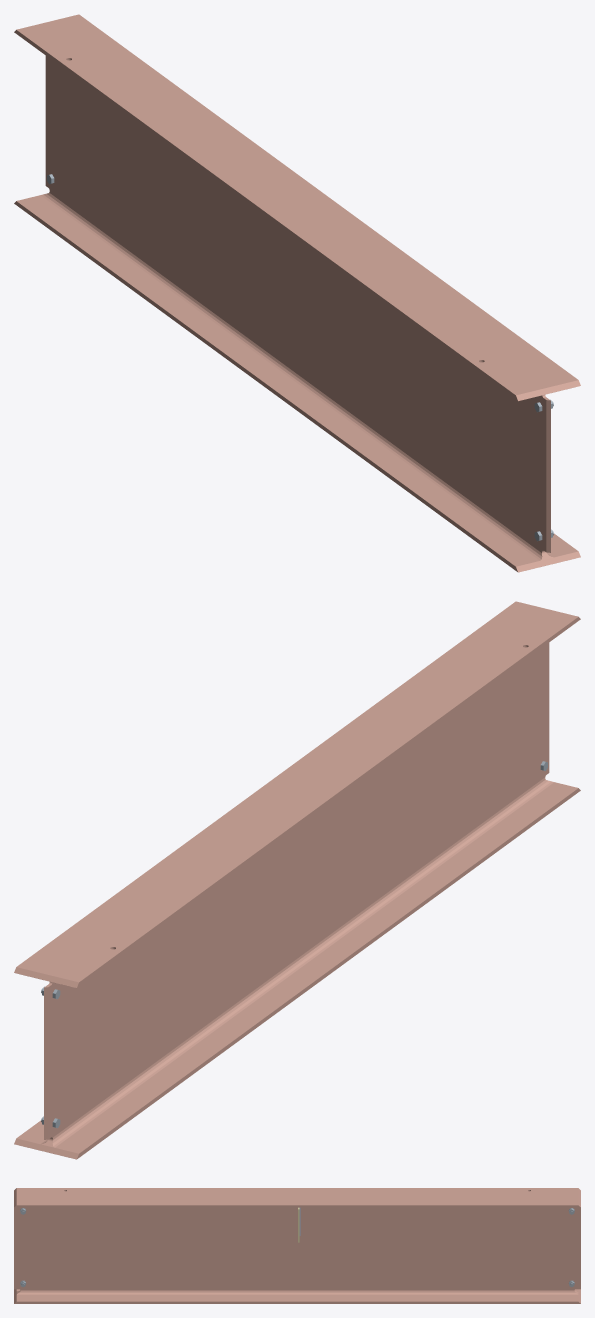
3 views of the same model, one above another, from view 1: azimuth 30°, elevation 25°; view 2: azimuth 150°, elevation 25°; view 3: azimuth 270°, elevation 25° (orthographic). The views are drawn at different scales.
Parts seen in each view (by area): view 1: product-c60622f5-bab5-4af8-8b68-e74209a88382-body; view 2: product-c60622f5-bab5-4af8-8b68-e74209a88382-body; view 3: product-c60622f5-bab5-4af8-8b68-e74209a88382-body.
Part boxes in pixels (left/top/right/bottom): product-c60622f5-bab5-4af8-8b68-e74209a88382-body: left=14, top=14, right=580, bottom=572; product-c60622f5-bab5-4af8-8b68-e74209a88382-body: left=14, top=601, right=580, bottom=1159; product-c60622f5-bab5-4af8-8b68-e74209a88382-body: left=14, top=1188, right=580, bottom=1303.
Size of the model in its own units: 0.254 by 0.6782 by 3.53.
